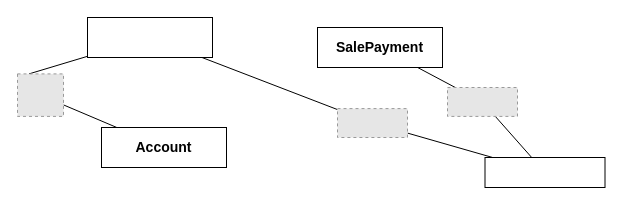
The diagram is 623 pixels wide and 205 high, and some of its shapes have lost their labels. Grey dashed boxes stand in for pictures. Here are the shapes that lost their labels. From the top down, the centre of each, then its label:
At point (149, 37): "RentPayment".
At point (544, 172): "Accountant".
